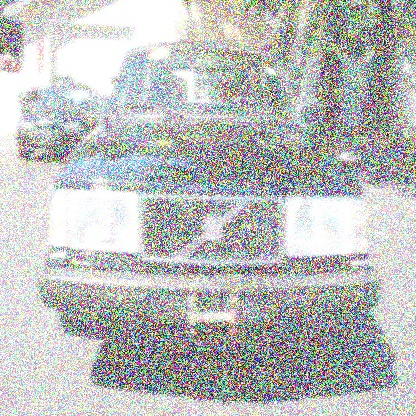Vehicle: (39, 43, 382, 362)
